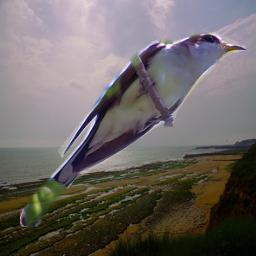Cuckoo: (20, 32, 246, 227)
